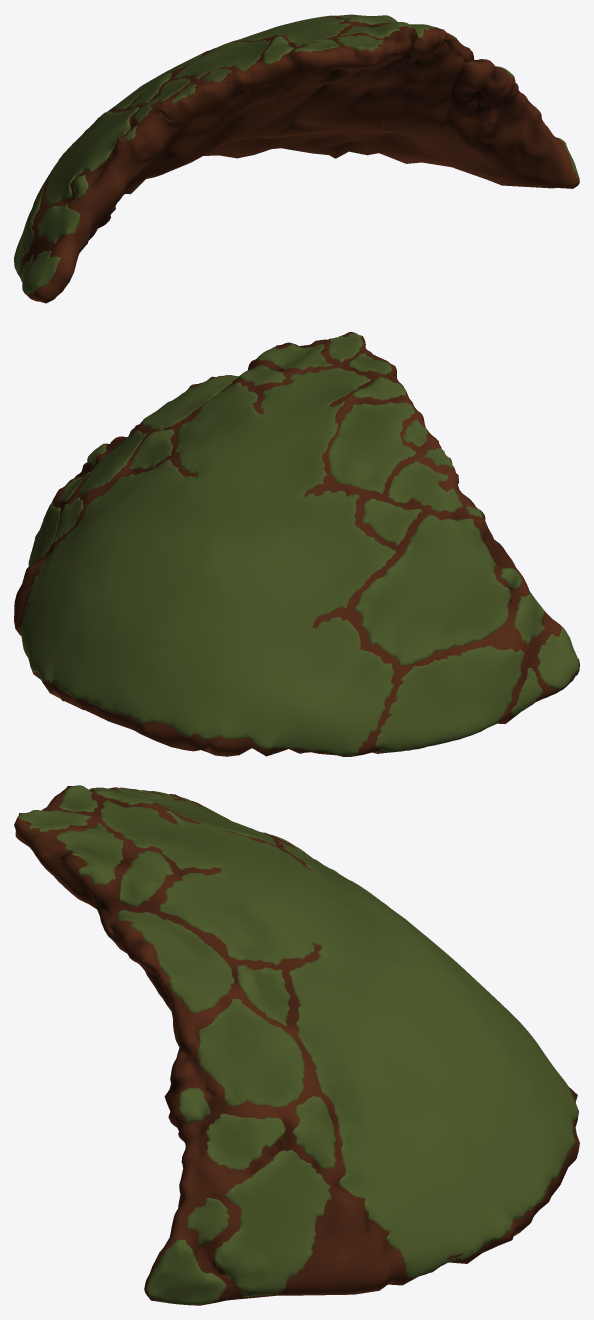
File: env_digsiterock_cliff01.fbx
The picture shows the model from 3 angles, top to bottom: view 1: azimuth 30°, elevation 25°; view 2: azimuth 150°, elevation 25°; view 3: azimuth 270°, elevation 25°; orthographic projection. The views are drawn at different scales.
Parts seen in each view (by area): view 1: Cliff_base, cliff_grass; view 2: cliff_grass, Cliff_base; view 3: cliff_grass, Cliff_base.
Part boxes in pixels (box(x1,y1,x2,y2)): Cliff_base: box(19, 16, 579, 303); cliff_grass: box(14, 14, 579, 294); cliff_grass: box(21, 333, 578, 755); Cliff_base: box(14, 332, 579, 756); cliff_grass: box(18, 785, 578, 1304); Cliff_base: box(14, 786, 579, 1305).
Size of the model in its own units: 2507 by 1174 by 1699.
